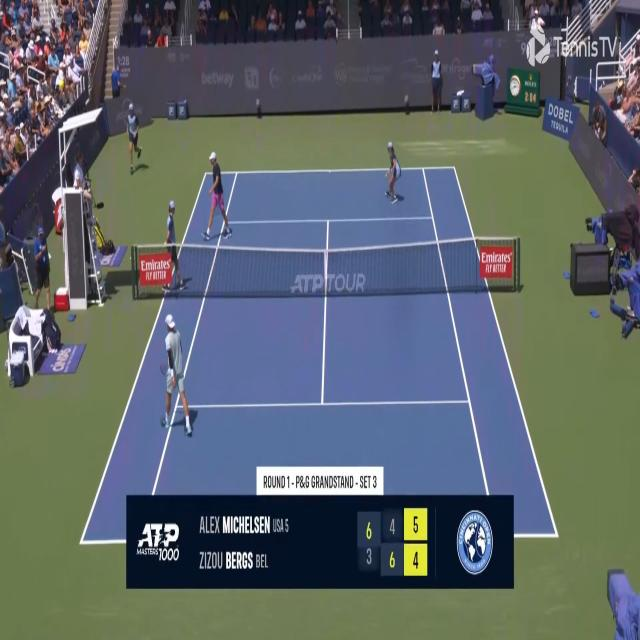tennis-player: (158, 309, 196, 442), (200, 152, 233, 241)
